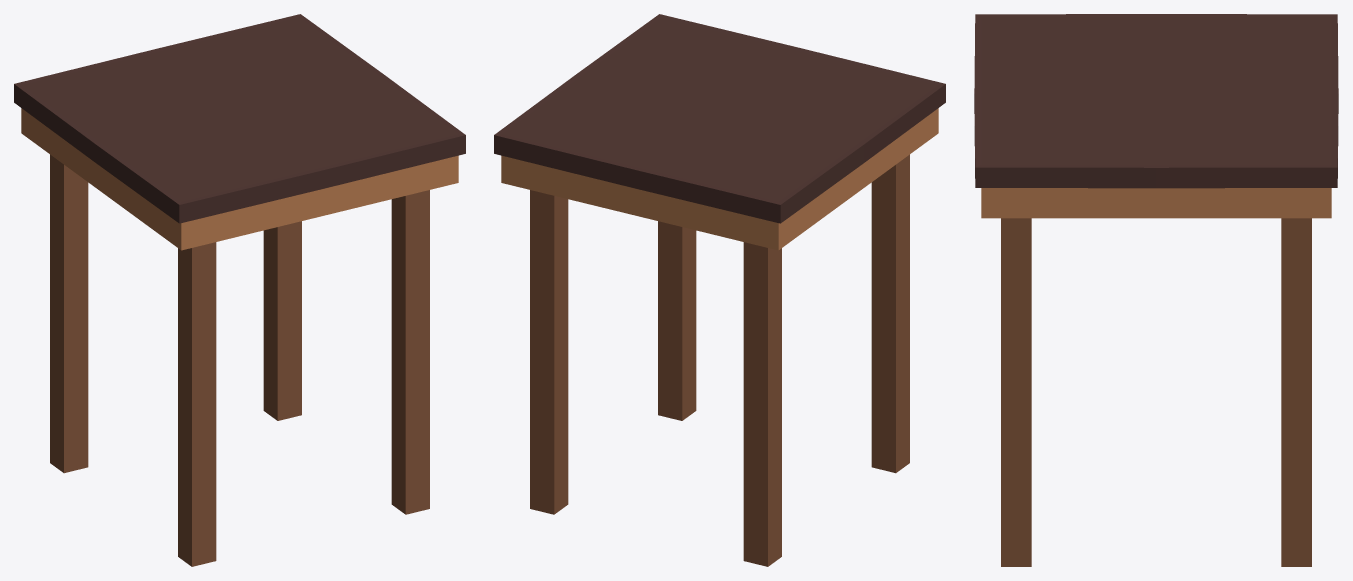
Rendered from Prop_Table_01.fbx.
3 renders of one model, left to right at view 1: azimuth 30°, elevation 25°; view 2: azimuth 150°, elevation 25°; view 3: azimuth 270°, elevation 25°, orthographic. The views are drawn at different scales.
Parts seen in each view (by area): view 1: Prop_Table_01; view 2: Prop_Table_01; view 3: Prop_Table_01.
Boxes of the visible parts, bbox=[...] form: Prop_Table_01: bbox=[14, 14, 465, 566]; Prop_Table_01: bbox=[494, 14, 945, 566]; Prop_Table_01: bbox=[974, 14, 1338, 566].
Bounding box in the file's own units: 60 × 75 × 60.
